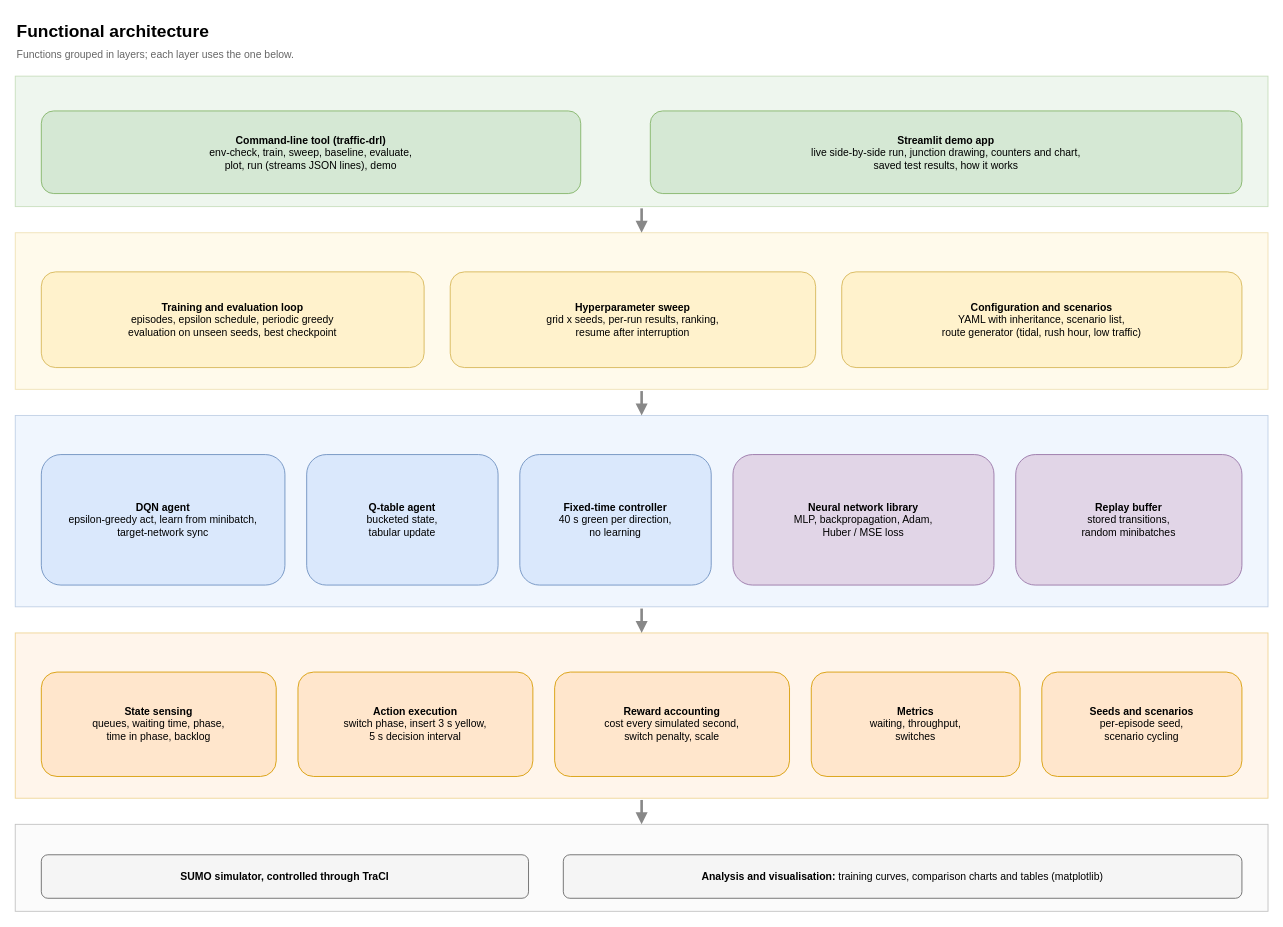
Some shapes in this 1283 by 927 pixel diagram are drawn without their labels. The shapes that lost their labels are listed below. From the top down, each one's box as (x1, y1, x2, y2) in pixels, then its label:
(14, 75, 1268, 207): 1. Interface
(14, 232, 1268, 389): 2. Experiments
(14, 415, 1268, 607): 3. Controllers and learning components
(14, 632, 1268, 798): 4. Simulation environment (TraciEnv)
(14, 823, 1268, 911): 5. Supporting: simulator and analysis
